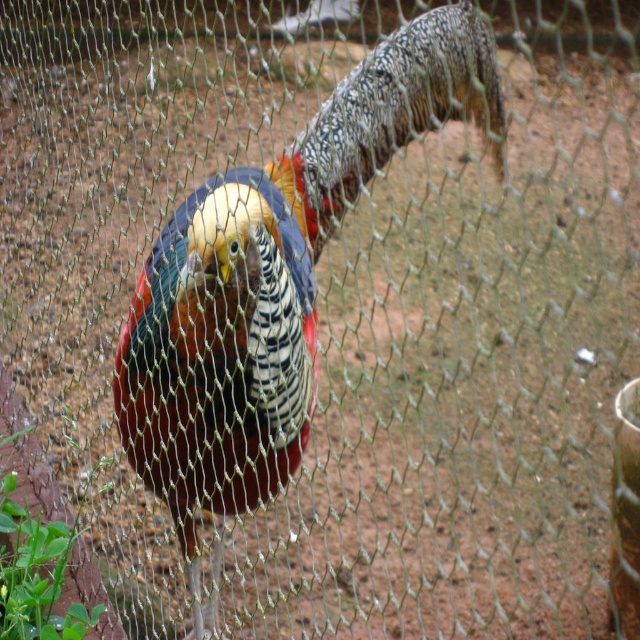Turkey: (113, 2, 511, 640)
